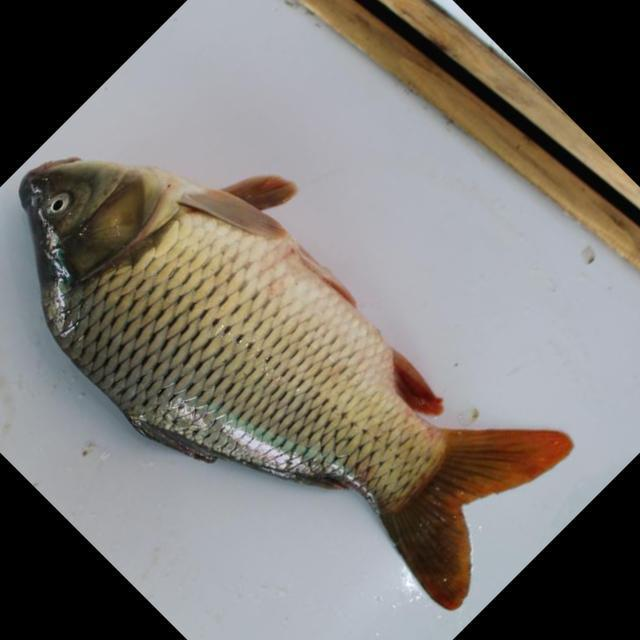CommonCarp: (19, 147, 569, 609)
